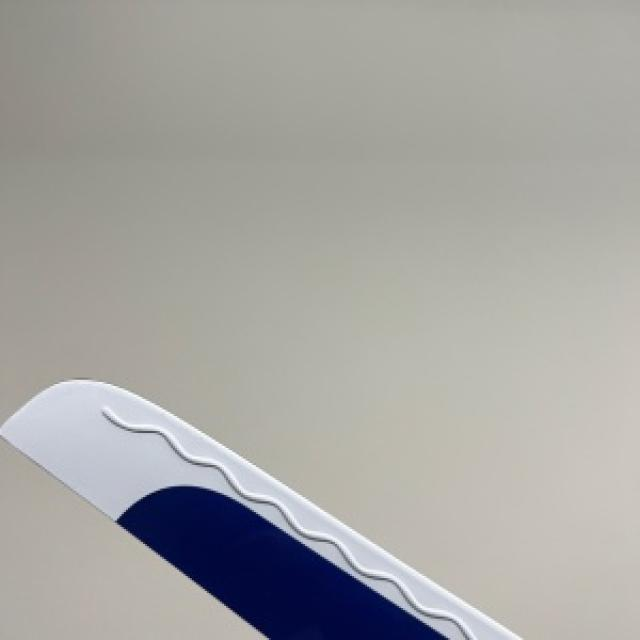healthy: (0, 378, 518, 638)
